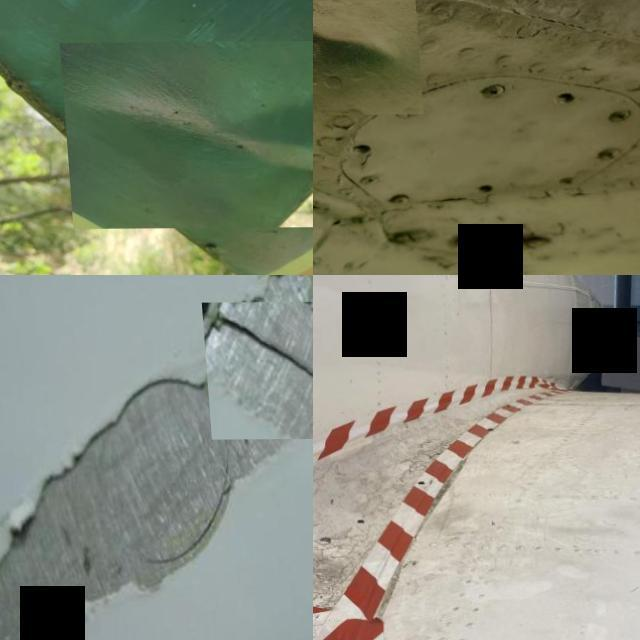Crack: (199, 302, 313, 440)
Dent: (55, 41, 313, 229), (313, 0, 417, 115)
Missing_Fastener: (530, 76, 584, 124), (328, 128, 379, 171), (456, 169, 500, 210)
